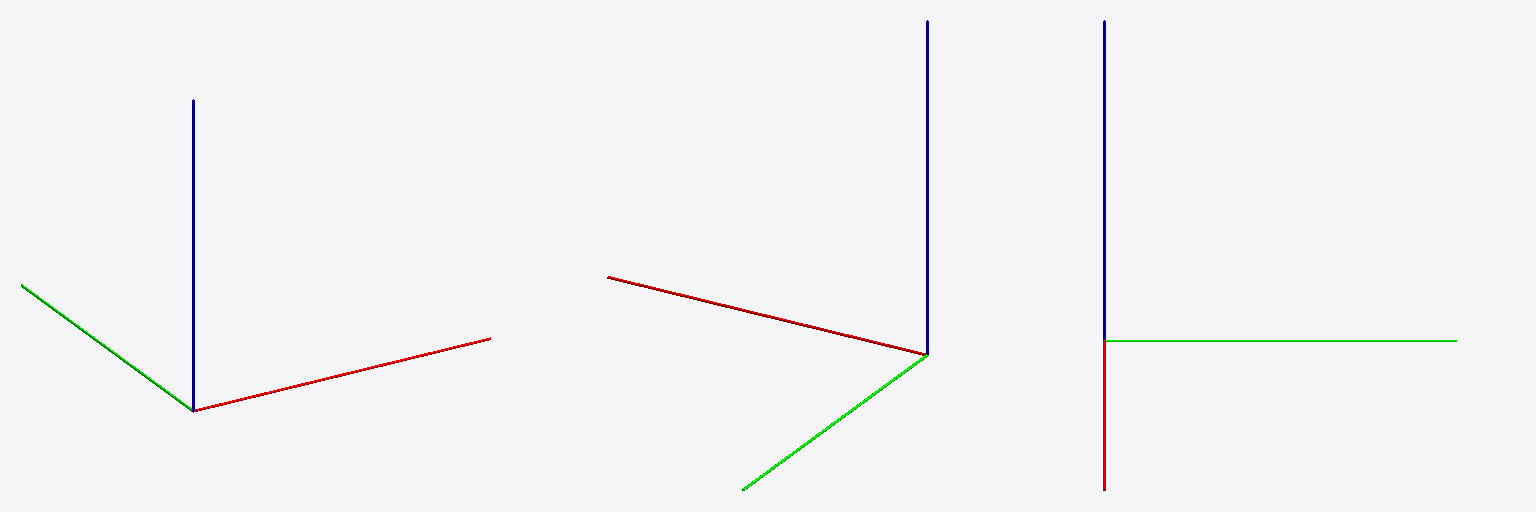
robot.urdf — axis:
<?xml version="1.0" ?>
<robot name="axis">
  <link name="world"/>
  <link name="x_link">
    <visual>
      <origin rpy="0 1.5708 0" xyz="0.25 0 0"/>
      <geometry>
				<cylinder radius="0.002" length="0.5"/>
      </geometry>
       <material name="red">
        <color rgba="1 0.0 0 0.5"/>
      </material>
    </visual>
  </link>
  <link name="y_link">
    <visual>
      <origin rpy="1.5708 0 0" xyz="0 0.25 0"/>
      <geometry>
        <cylinder radius="0.002" length="0.5"/>
      </geometry>
       <material name="green">
        <color rgba="0 1 0 0.5"/>
      </material>
    </visual>
  </link>
      <link name="z_link">
    <visual>
      <origin rpy="0 0 0" xyz="0 0  0.25 "/>
      <geometry>
        <cylinder radius="0.002" length="0.5"/>
      </geometry>
       <material name="blue">
        <color rgba="0 0 1 0.5"/>
      </material>
    </visual>
  </link>


 <joint name="x_joint" type="fixed">
    <origin xyz="0 0 0" rpy="0 0 0"/>
    <parent link="world"/>
    <child link="x_link"/>
 </joint>
 <joint name="y_joint" type="fixed">
    <origin xyz="0 0 0" rpy="0 0 0"/>
    <parent link="world"/>
    <child link="y_link"/>
 </joint>
   <joint name="z_joint" type="fixed">
    <origin xyz="0 0 0" rpy="0 0 0"/>
    <parent link="world"/>
    <child link="z_link"/>
 </joint>
</robot>

--- Render facts (derived) ---
Views: 3 orthographic renders of the robot side by side, from view 1: azimuth 30°, elevation 25°; view 2: azimuth 150°, elevation 25°; view 3: azimuth 270°, elevation 25°.
Model axis with 4 links and 3 joints (3 fixed), rooted at world, posed every joint at zero.
Links seen in each view (by area): view 1: z_link, x_link, y_link; view 2: z_link, x_link, y_link; view 3: z_link, y_link.
Boxes of the visible links, box(x1,y1,x2,y2) form: z_link: box(192, 99, 194, 411); x_link: box(193, 337, 490, 412); y_link: box(21, 284, 191, 411); z_link: box(926, 20, 928, 354); x_link: box(607, 276, 925, 355); y_link: box(742, 354, 928, 490); z_link: box(1103, 20, 1105, 339); y_link: box(1105, 340, 1456, 341).
Size in the robot's own frame: 0.502 by 0.502 by 0.502 metres.
Geometry: primitives only (box / cylinder / sphere), no mesh files.
